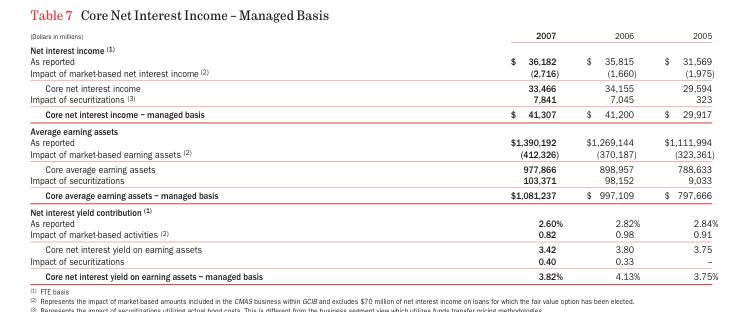table: (29, 29, 717, 281)
table column: (29, 29, 385, 281), (385, 29, 573, 281), (573, 29, 651, 281), (651, 29, 717, 281)
table column header: (29, 29, 717, 42)
table projected row header: (29, 122, 717, 136), (29, 203, 717, 217), (29, 42, 717, 55)
table row: (29, 106, 717, 122), (29, 187, 717, 203), (29, 66, 717, 80), (29, 122, 717, 136), (29, 160, 717, 174), (29, 203, 717, 217), (29, 254, 717, 268), (29, 29, 717, 42), (29, 42, 717, 55), (29, 80, 717, 93), (29, 93, 717, 106), (29, 147, 717, 160), (29, 174, 717, 187), (29, 228, 717, 241), (29, 241, 717, 254), (29, 268, 717, 281), (29, 55, 717, 66), (29, 136, 717, 147), (29, 217, 717, 228)
